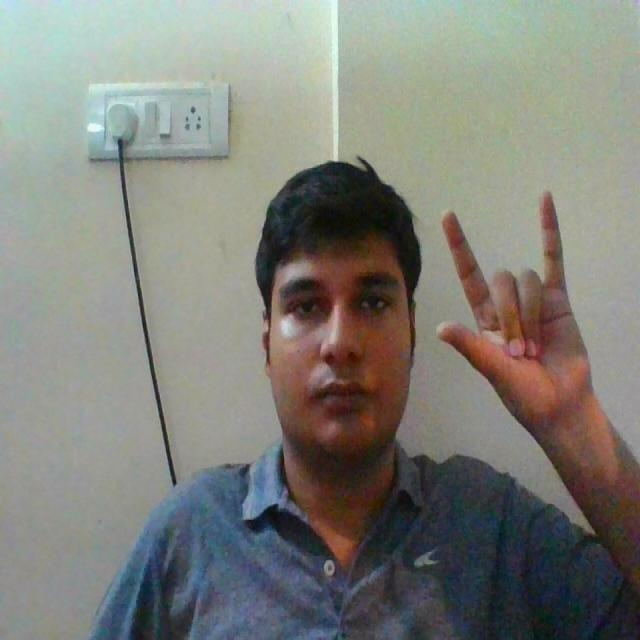I love you: (415, 176, 603, 434)
